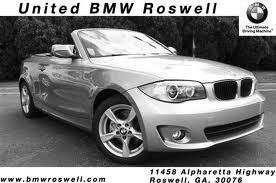car: (17, 25, 270, 162)
